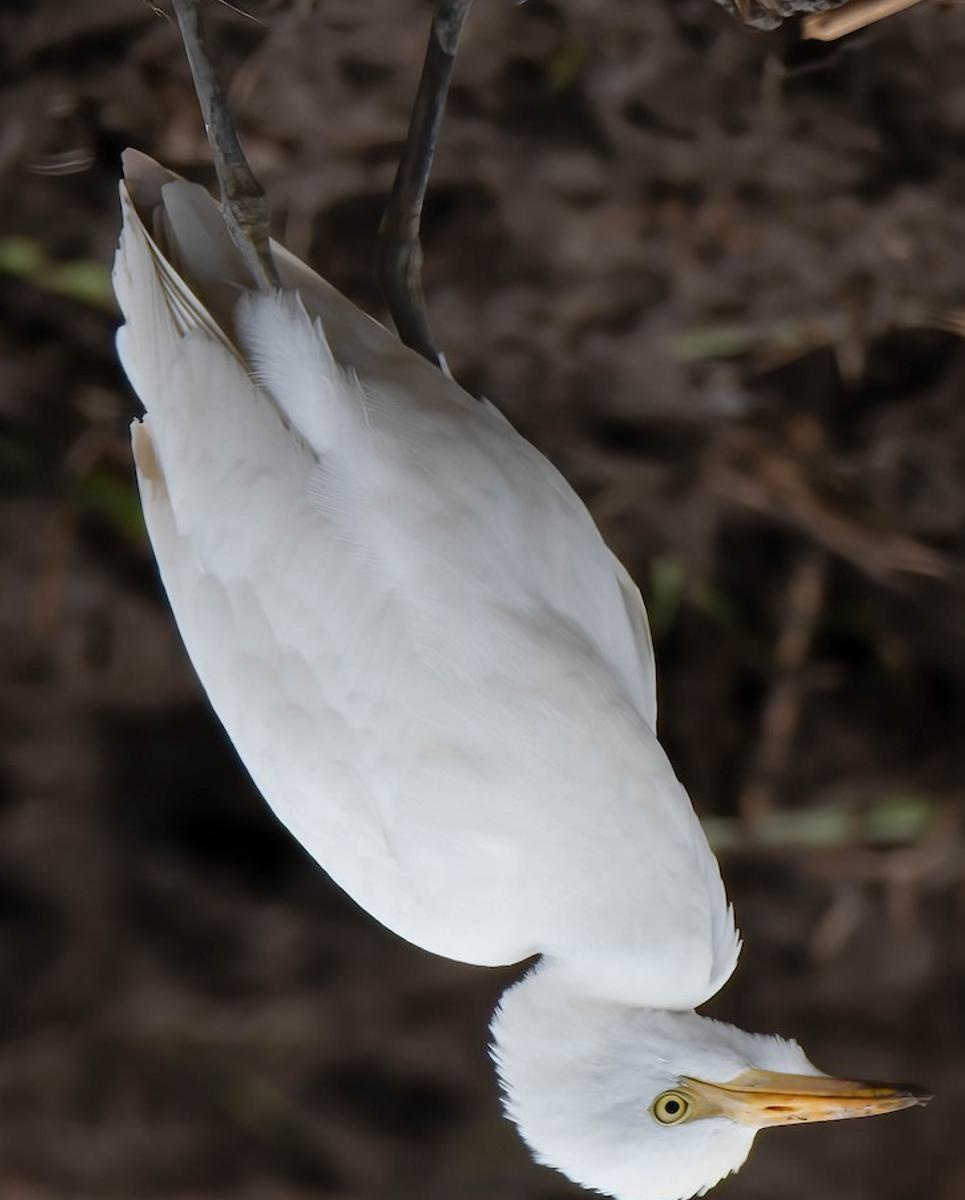egret: (73, 1, 935, 1192)
